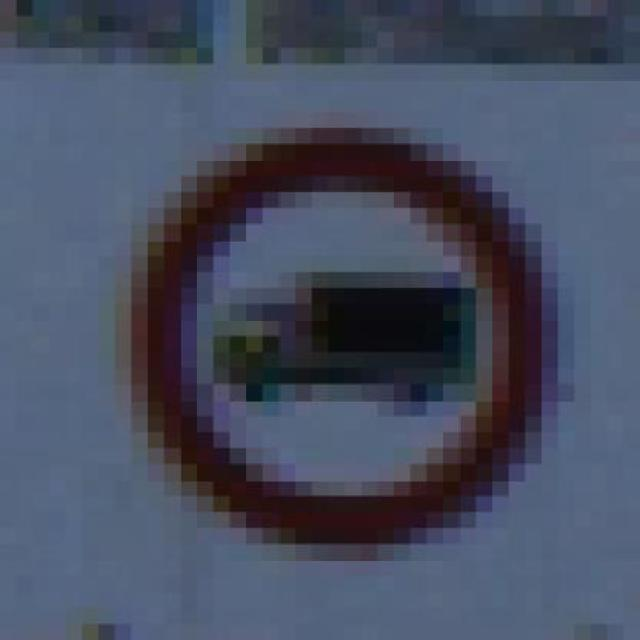Truck traffic is prohibited: (82, 96, 575, 544)
